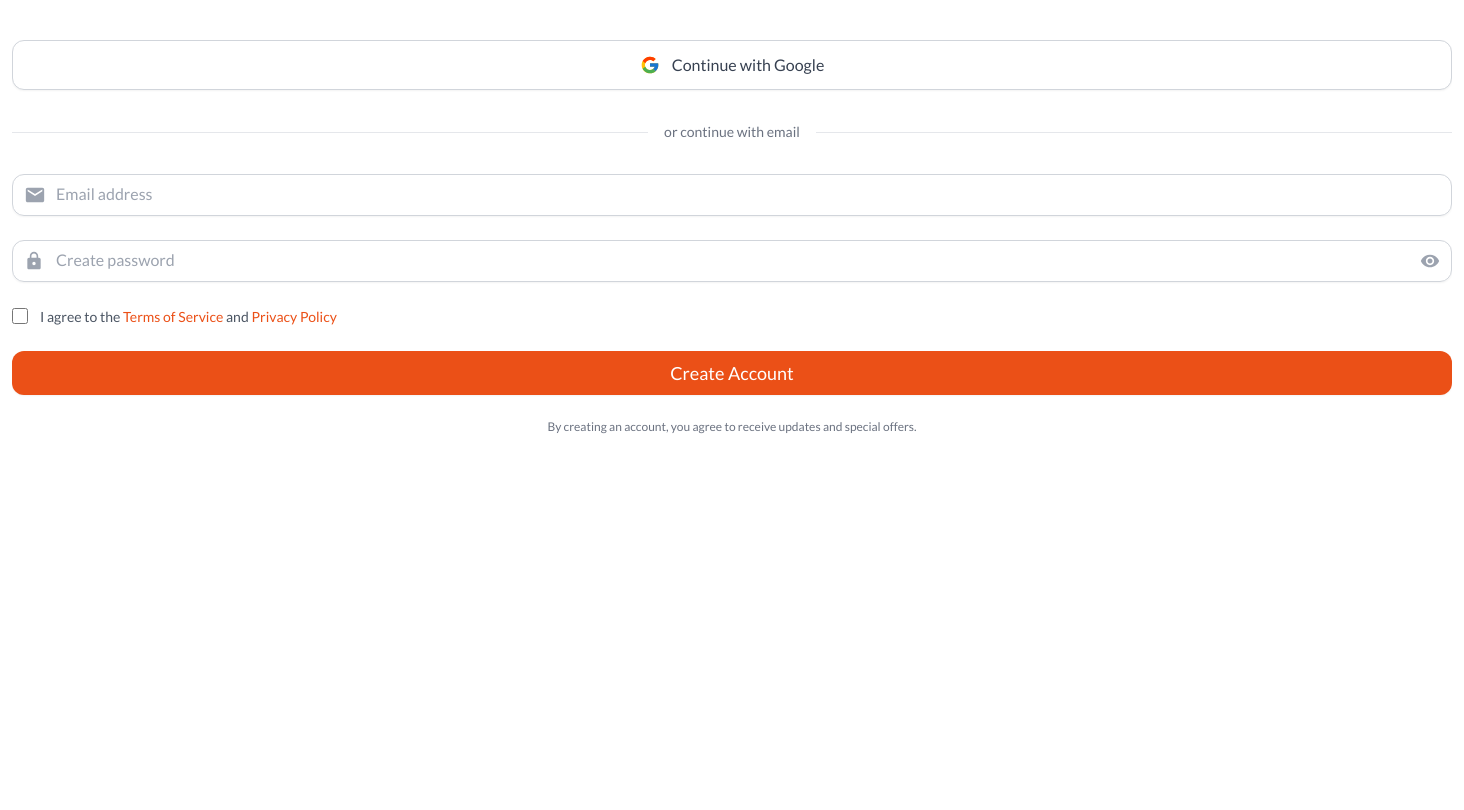
Test: RegisterForm › shows terms error message if not accepted
Click the button "Create Account".
click(732, 373)  # box [12,351,1452,395]
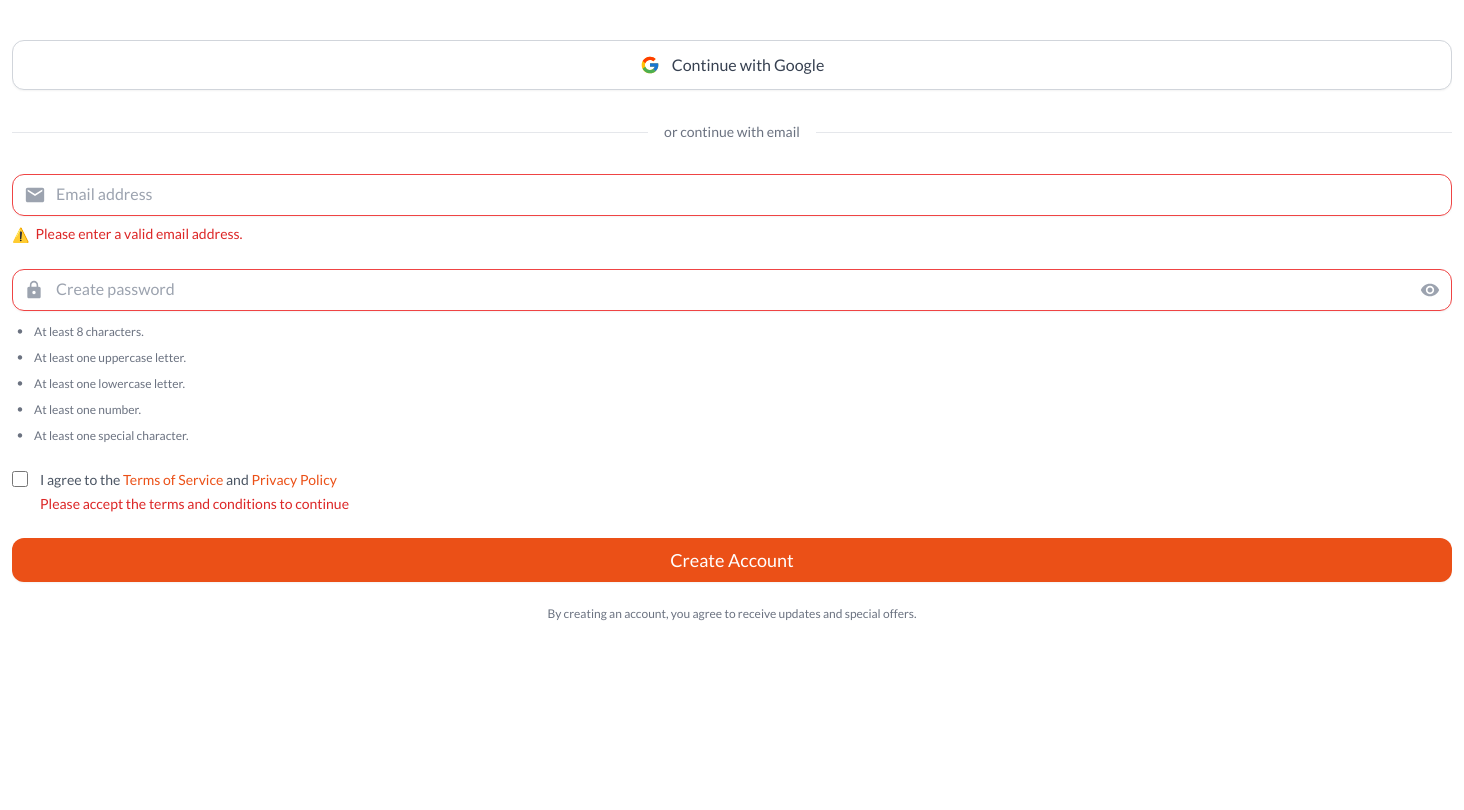
expect the text "Please accept the terms and conditions to continue" is shown: met, box [40,494,349,514]
